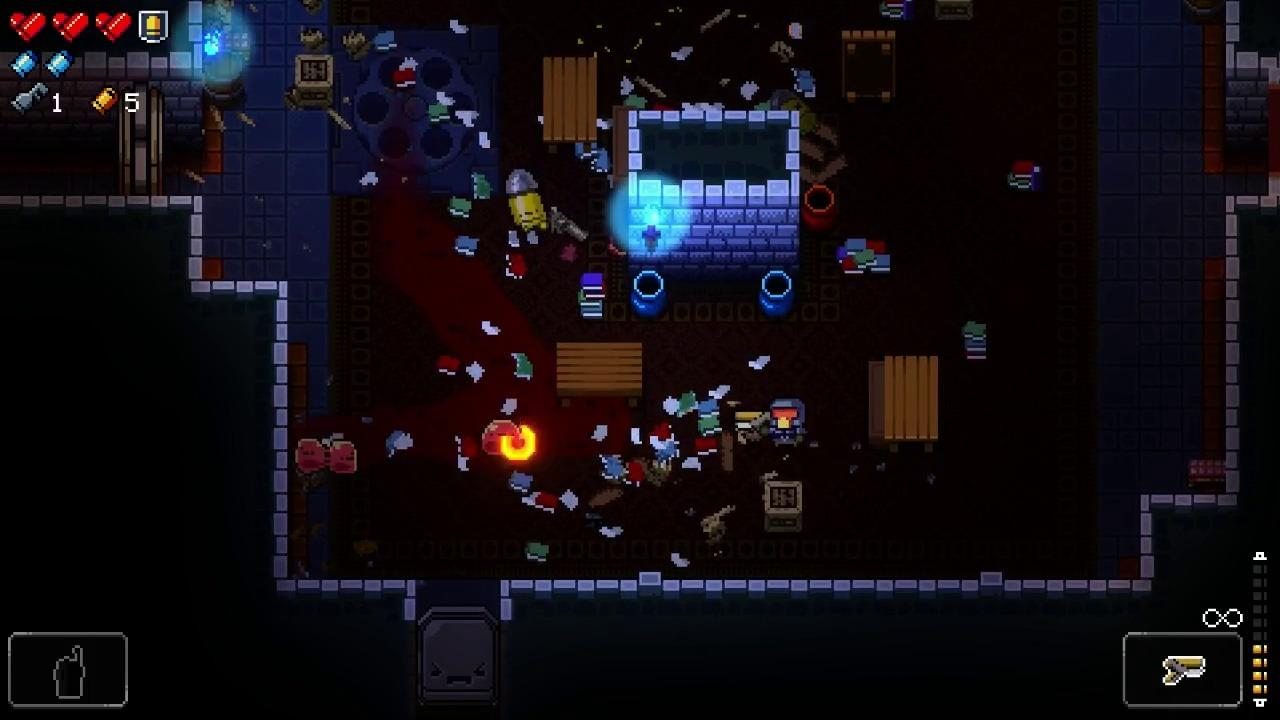blobulin_s: (294, 439, 329, 473), (328, 439, 360, 473)
blobuloid_m: (482, 419, 525, 459)
bullet_kin: (506, 168, 547, 229)
locked_door: (418, 606, 499, 707), (118, 79, 163, 197)
player: (769, 401, 807, 448)
table: (557, 345, 643, 408), (542, 55, 597, 153), (883, 356, 938, 452), (842, 31, 897, 105)
teleporter: (329, 25, 501, 195)
